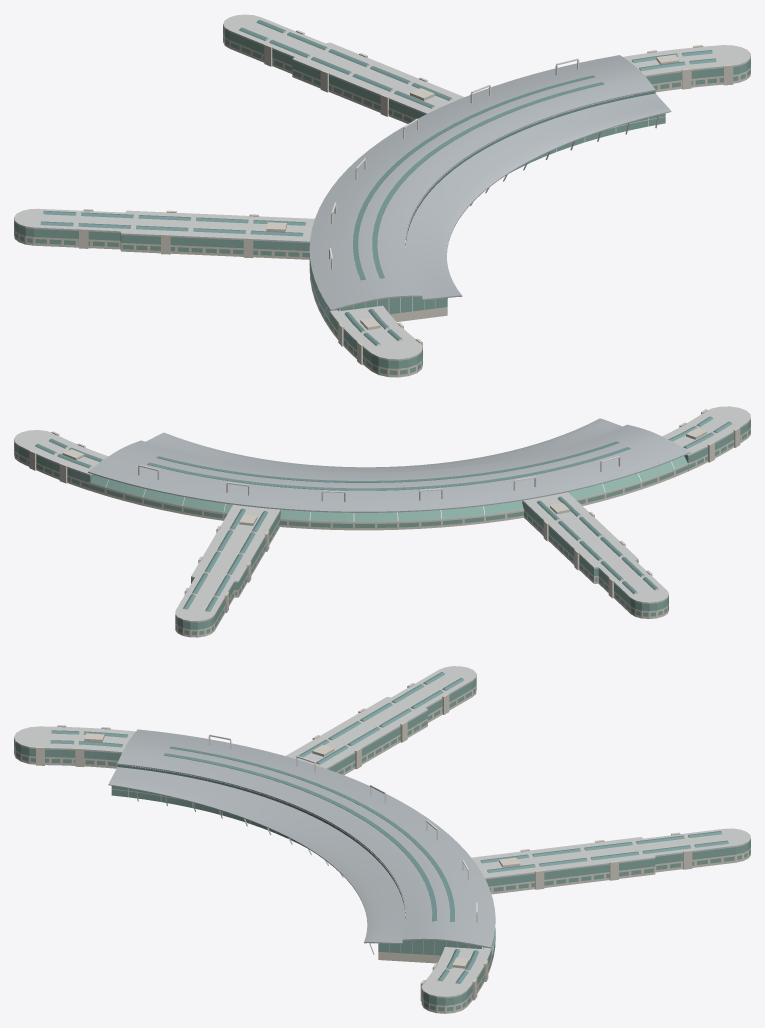
Rendered from incheon-airport-terminal-1.glb.
3 renders of one model, top to bottom at view 1: azimuth 30°, elevation 25°; view 2: azimuth 150°, elevation 25°; view 3: azimuth 270°, elevation 25°, orthographic. The views are drawn at different scales.
Visible parts, largest first — view 1: Incheon International Airport Terminal 1; view 2: Incheon International Airport Terminal 1; view 3: Incheon International Airport Terminal 1.
Boxes of the visible parts, x1=… form: Incheon International Airport Terminal 1: x1=14, y1=14, x2=750, y2=377; Incheon International Airport Terminal 1: x1=14, y1=406, x2=750, y2=637; Incheon International Airport Terminal 1: x1=14, y1=666, x2=750, y2=1013.
Bounding box in the file's own units: 958 × 43.77 × 902.
